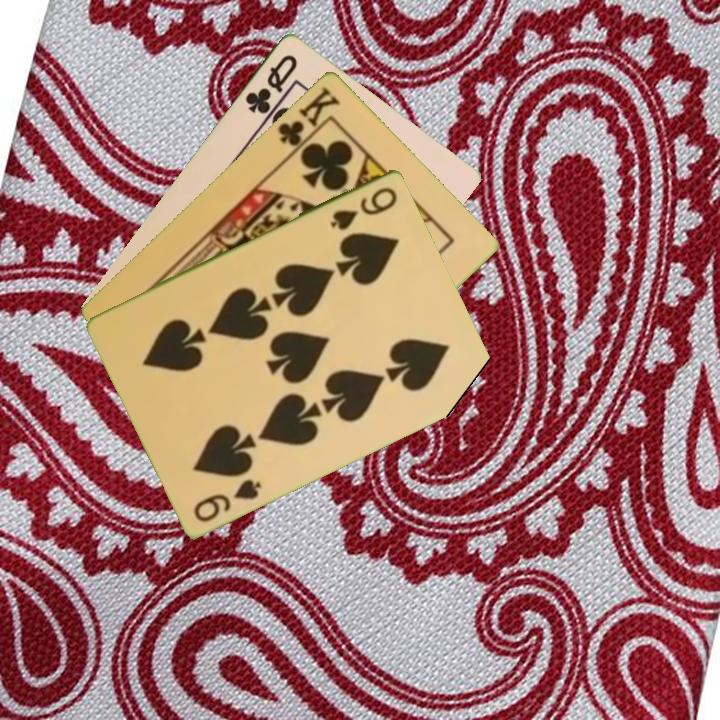9s: (190, 474, 265, 525), (327, 183, 401, 233)
Kc: (274, 82, 344, 158)
Qc: (241, 50, 301, 117)
